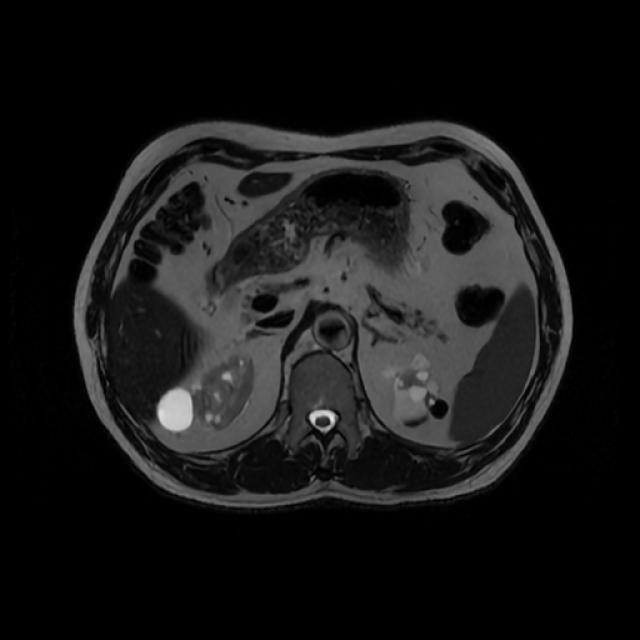sag: (158, 355, 257, 429)
sol: (391, 356, 449, 425)
